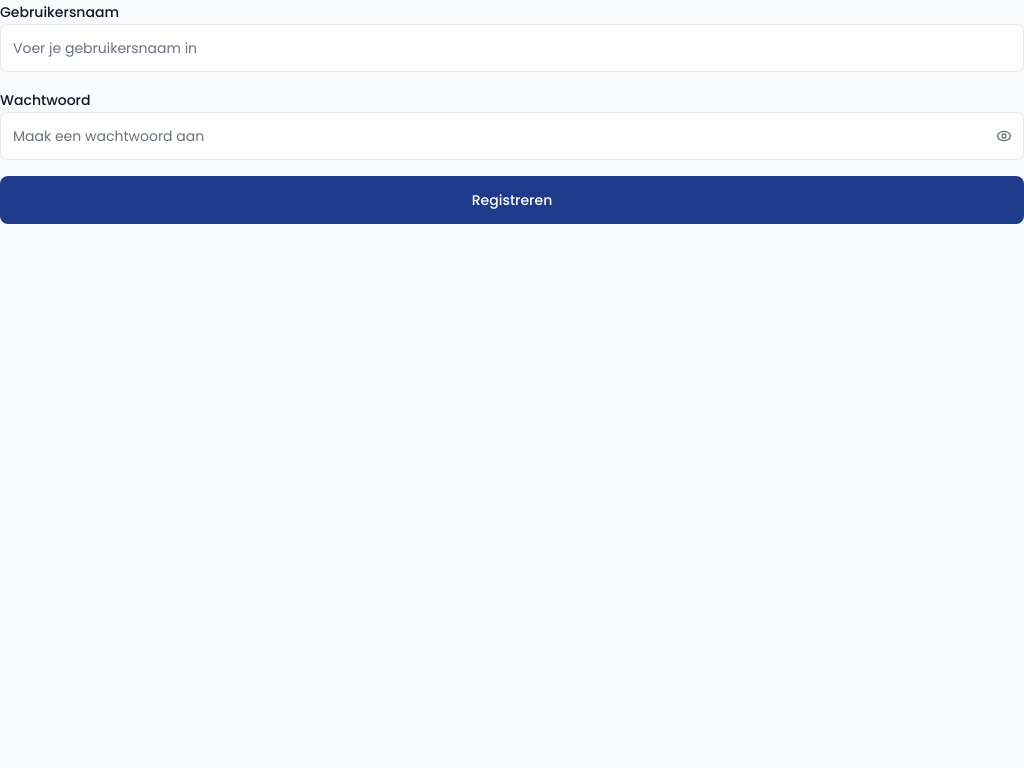
Test: SignUpForm › hides the password until the user asks to see it
The width and height of the screenshot is (1024, 768).
Click the button named "Wachtwoord tonen" at point(1004, 136), box [996,128,1012,144]
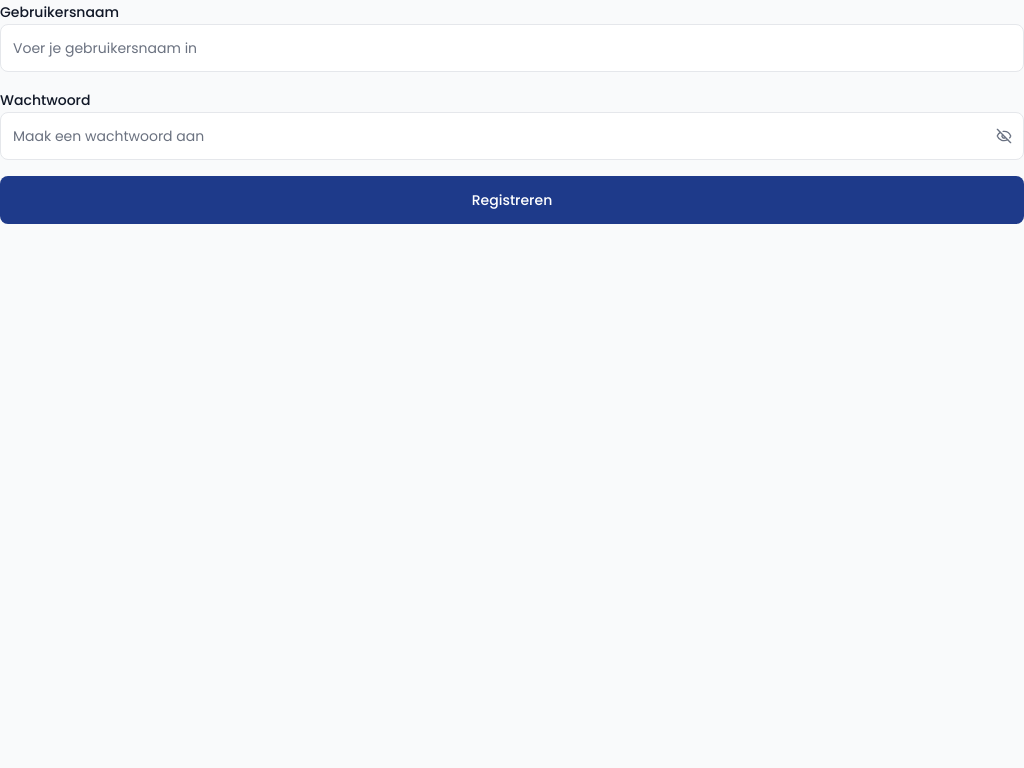
Check: the button named "Wachtwoord verbergen" is shown, box [996,128,1012,144]
